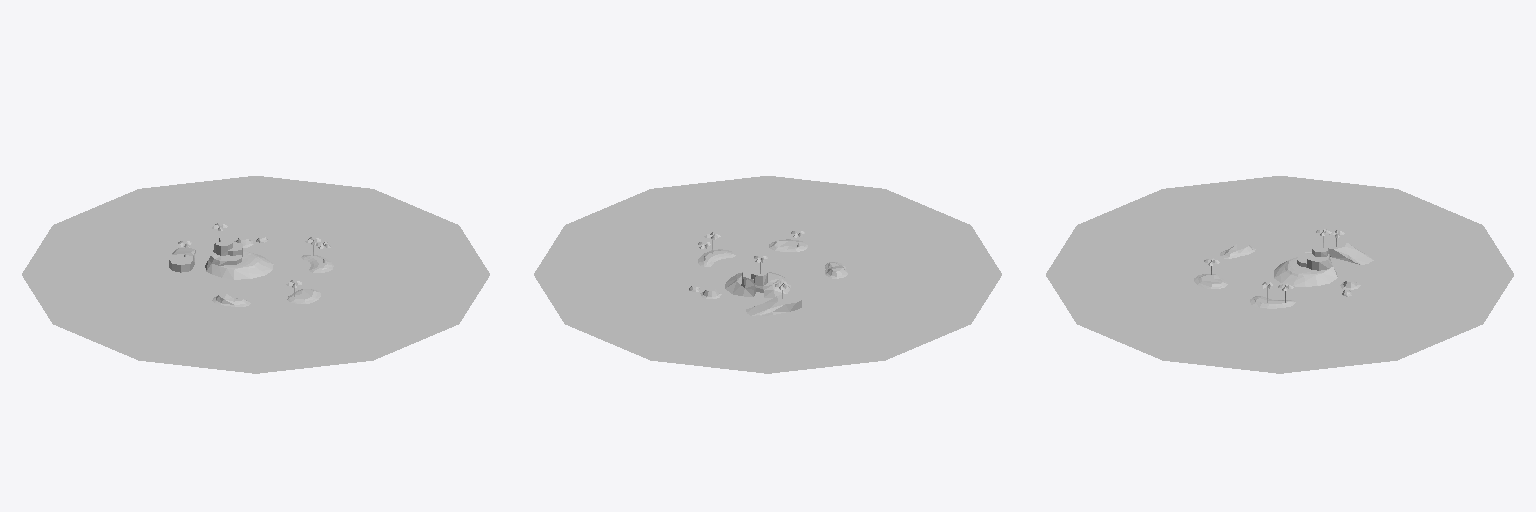
The model's file is isle.obj.
The picture shows the model from 3 angles: view 1: azimuth 30°, elevation 25°; view 2: azimuth 150°, elevation 25°; view 3: azimuth 270°, elevation 25°; orthographic projection.
Parts seen in each view (by area): view 1: r0-node; view 2: r0-node; view 3: r0-node.
Boxes of the visible parts, <box> form: r0-node: <box>22,176,489,373</box>; r0-node: <box>534,176,1001,373</box>; r0-node: <box>1046,176,1513,373</box>.
Size of the model in its own units: 23.44 by 2.07 by 23.44.